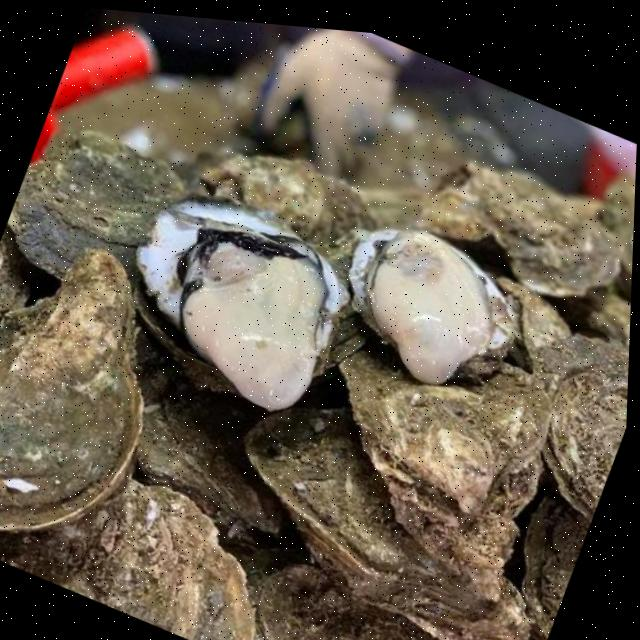Oyster-Closed: (461, 259, 573, 378)
Oyster-Indeterminate: (192, 363, 583, 640), (284, 297, 597, 588), (20, 434, 298, 640), (84, 350, 318, 538), (0, 252, 145, 552), (206, 522, 522, 640), (14, 130, 194, 288), (464, 163, 620, 298), (202, 156, 376, 264), (533, 338, 629, 515), (412, 190, 508, 271), (560, 263, 632, 357), (596, 178, 635, 305)
Oyster-Open: (133, 199, 349, 412), (346, 228, 519, 378)
